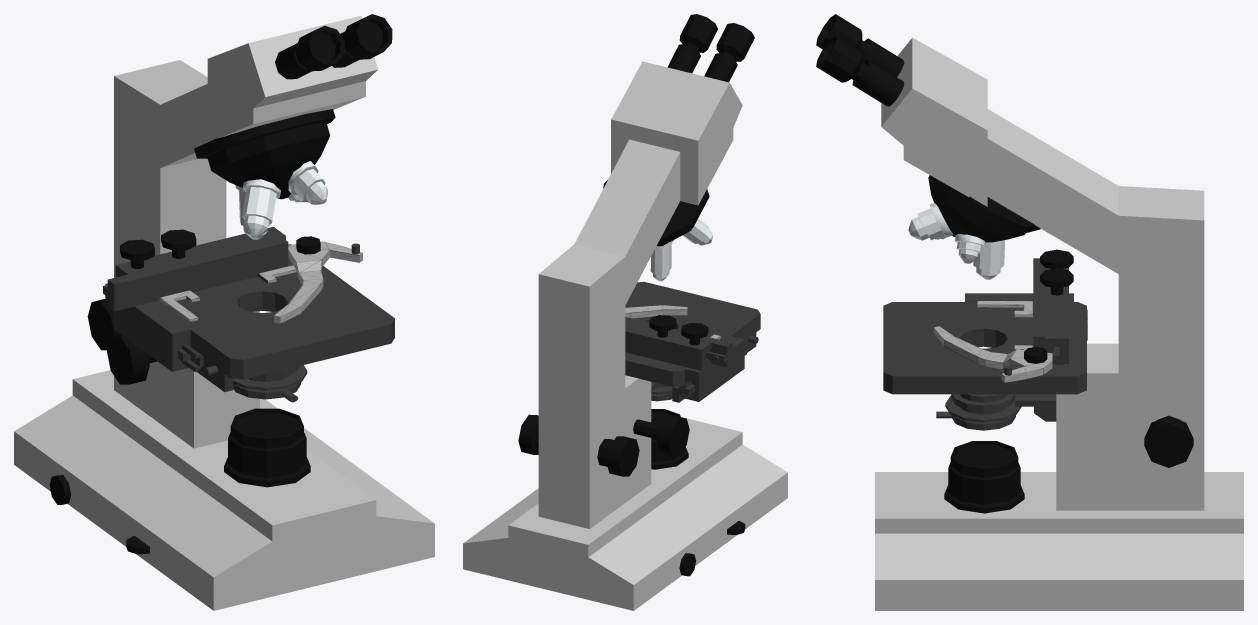
File: Microscope.FBX
The picture shows the model from 3 angles, left to right: view 1: azimuth 30°, elevation 25°; view 2: azimuth 150°, elevation 25°; view 3: azimuth 270°, elevation 25°; orthographic projection. The views are drawn at different scales.
Parts seen in each view (by area): view 1: Microscope body, Microscope plate, Cylinder540, M_bodyAdjuster, microscope lense1, microscope lense2, m_button2, Micadjuster1, Micadjuster2, m_button3, m_button5, m_button4; view 2: Microscope body, Microscope plate, microscope lense1, microscope lense2, m_button2, m_button3, Cylinder540, M_bodyAdjuster, m_button6, Micadjuster3, Micadjuster1, m_button4 (+1 smaller); view 3: Microscope body, Microscope plate, M_bodyAdjuster, Cylinder540, microscope lense2, m_button6, microscope lense1, Micadjuster2, Micadjuster3, m_button5, Micadjuster4.
Boxes of the visible parts, bbox=[...] form: Microscope body: bbox=[14, 15, 434, 610]; Microscope plate: bbox=[103, 226, 394, 402]; Cylinder540: bbox=[194, 109, 335, 199]; M_bodyAdjuster: bbox=[224, 408, 310, 487]; microscope lense1: bbox=[275, 25, 344, 79]; microscope lense2: bbox=[332, 14, 392, 67]; m_button2: bbox=[107, 334, 157, 384]; Micadjuster1: bbox=[242, 179, 280, 236]; Micadjuster2: bbox=[288, 161, 327, 204]; m_button3: bbox=[87, 298, 120, 350]; m_button5: bbox=[161, 229, 196, 258]; m_button4: bbox=[120, 239, 154, 268]; Microscope body: bbox=[463, 61, 787, 610]; Microscope plate: bbox=[625, 281, 760, 402]; microscope lense1: bbox=[704, 23, 754, 82]; microscope lense2: bbox=[667, 14, 717, 73]; m_button2: bbox=[633, 415, 689, 455]; m_button3: bbox=[597, 436, 639, 476]; Cylinder540: bbox=[603, 180, 709, 246]; M_bodyAdjuster: bbox=[651, 409, 688, 469]; m_button6: bbox=[518, 414, 538, 454]; Micadjuster3: bbox=[650, 240, 673, 281]; Micadjuster1: bbox=[682, 219, 712, 245]; m_button4: bbox=[681, 323, 708, 345]; Microscope body: bbox=[875, 37, 1243, 610]; Microscope plate: bbox=[883, 258, 1087, 430]; M_bodyAdjuster: bbox=[944, 441, 1024, 513]; Cylinder540: bbox=[928, 175, 1040, 242]; microscope lense2: bbox=[816, 35, 904, 106]; m_button6: bbox=[1144, 415, 1193, 467]; microscope lense1: bbox=[816, 14, 904, 77]; Micadjuster2: bbox=[908, 202, 952, 240]; Micadjuster3: bbox=[973, 240, 1005, 279]; m_button5: bbox=[1040, 268, 1073, 295]; Micadjuster4: bbox=[954, 234, 985, 263].
Size of the model in its own units: 17.32 by 40.56 by 29.43.
Materials: 4 (1 with a texture image).
